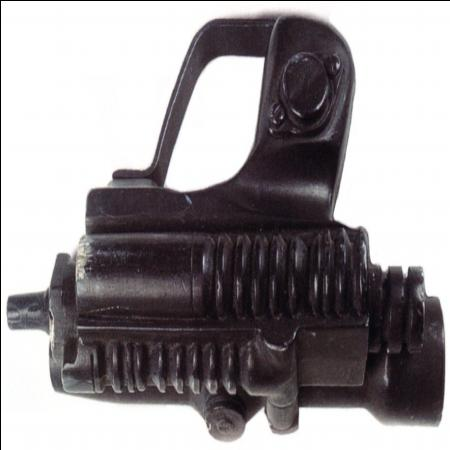Pistol: (4, 15, 442, 440)
